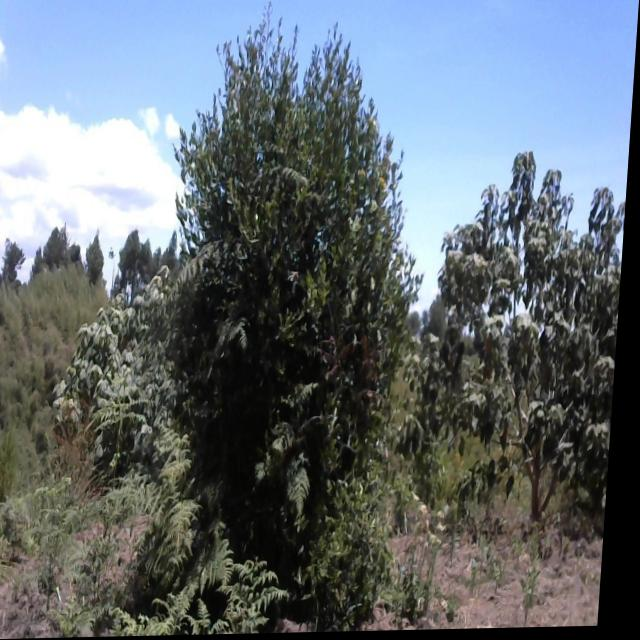Salix alba: (150, 3, 428, 592)
cedrus: (86, 228, 115, 277)
other: (409, 143, 632, 529), (61, 275, 179, 475)
